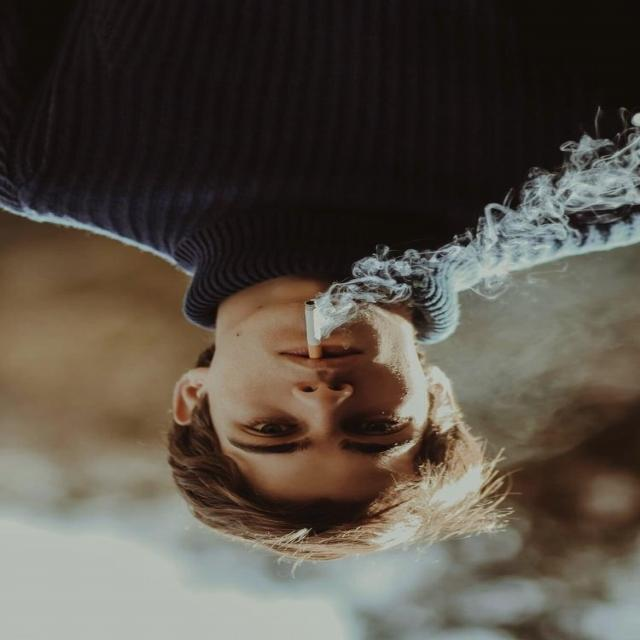cigarette: (284, 277, 342, 363)
